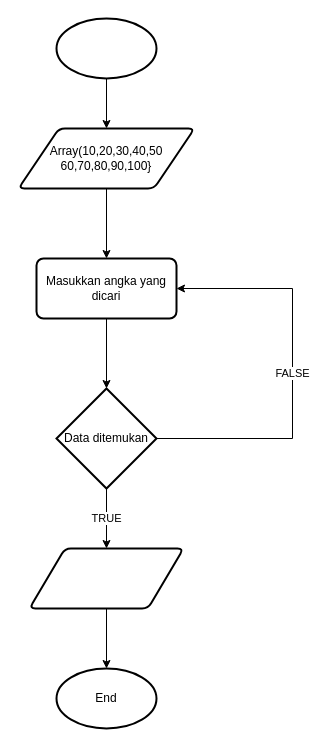
The diagram is 326 pixels wide and 746 high, and some of its shapes have lost their labels. Each missing label, with the box of its shape:
Print hasil: (28, 547, 184, 609)
Start: (55, 17, 157, 79)
